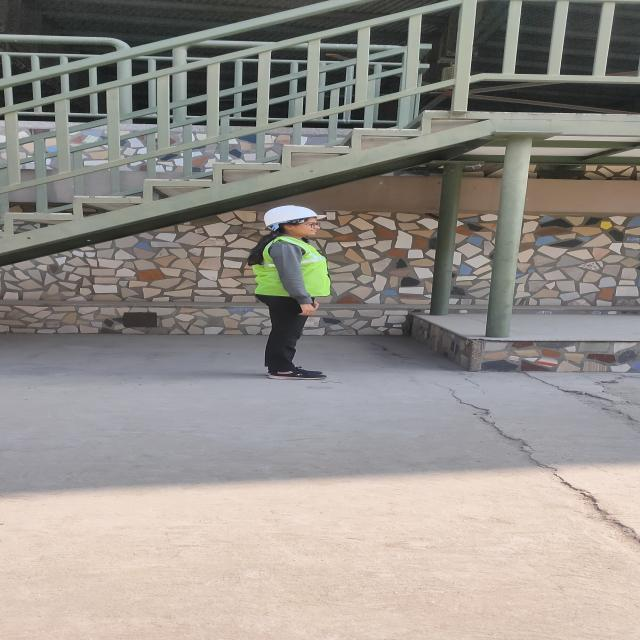safe: (248, 205, 331, 380)
